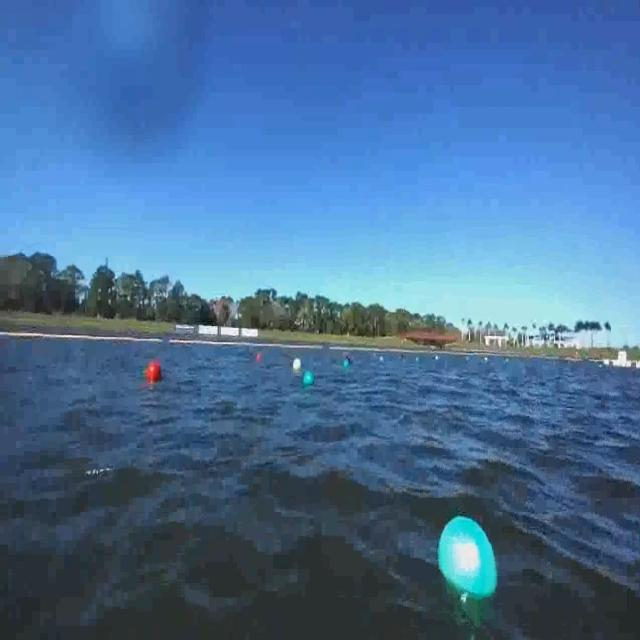green-buoy: (432, 513, 498, 604), (301, 369, 313, 386)
red-buoy: (148, 360, 164, 383)
yellow-buoy: (292, 358, 300, 372)
